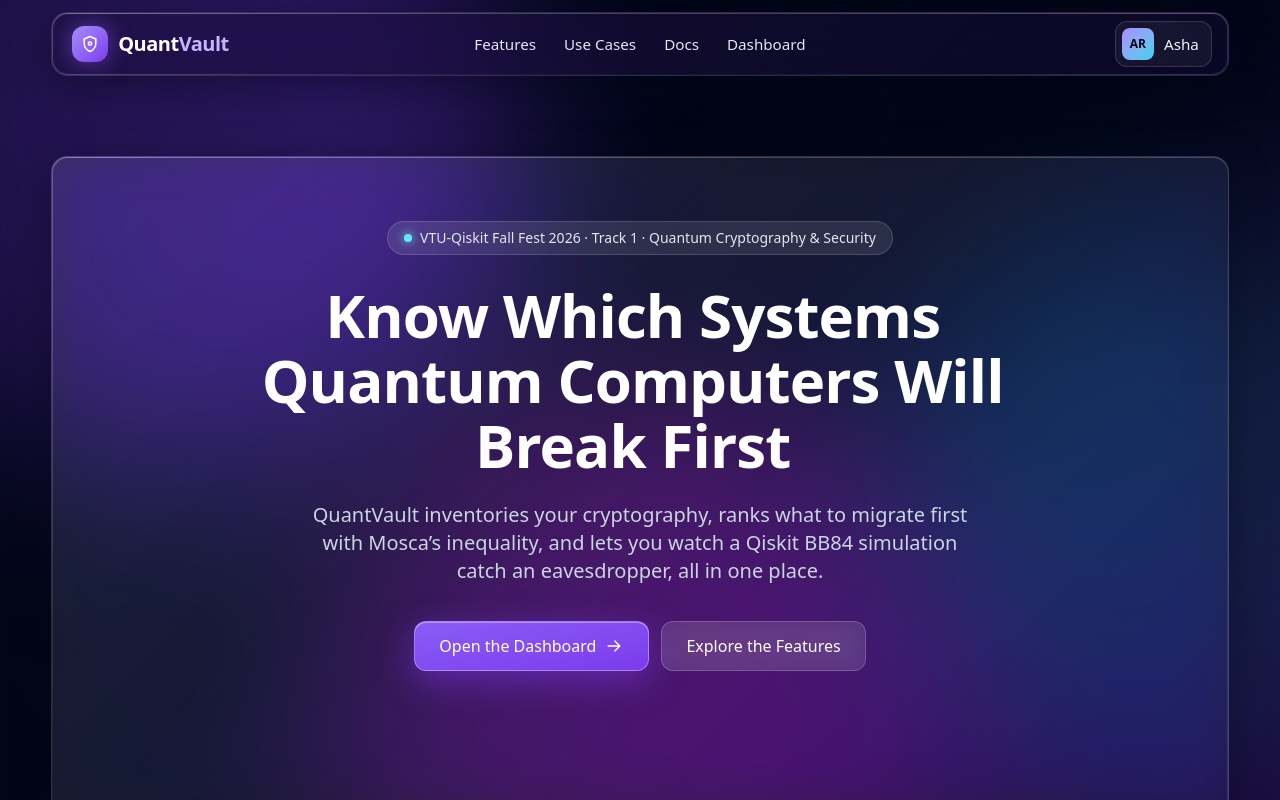
it: header menu › opens with the keyboard, moves with the arrows and Escape returns focus to the button
Click the button "AR Asha" at (1163, 44), box [1115,21,1212,67]
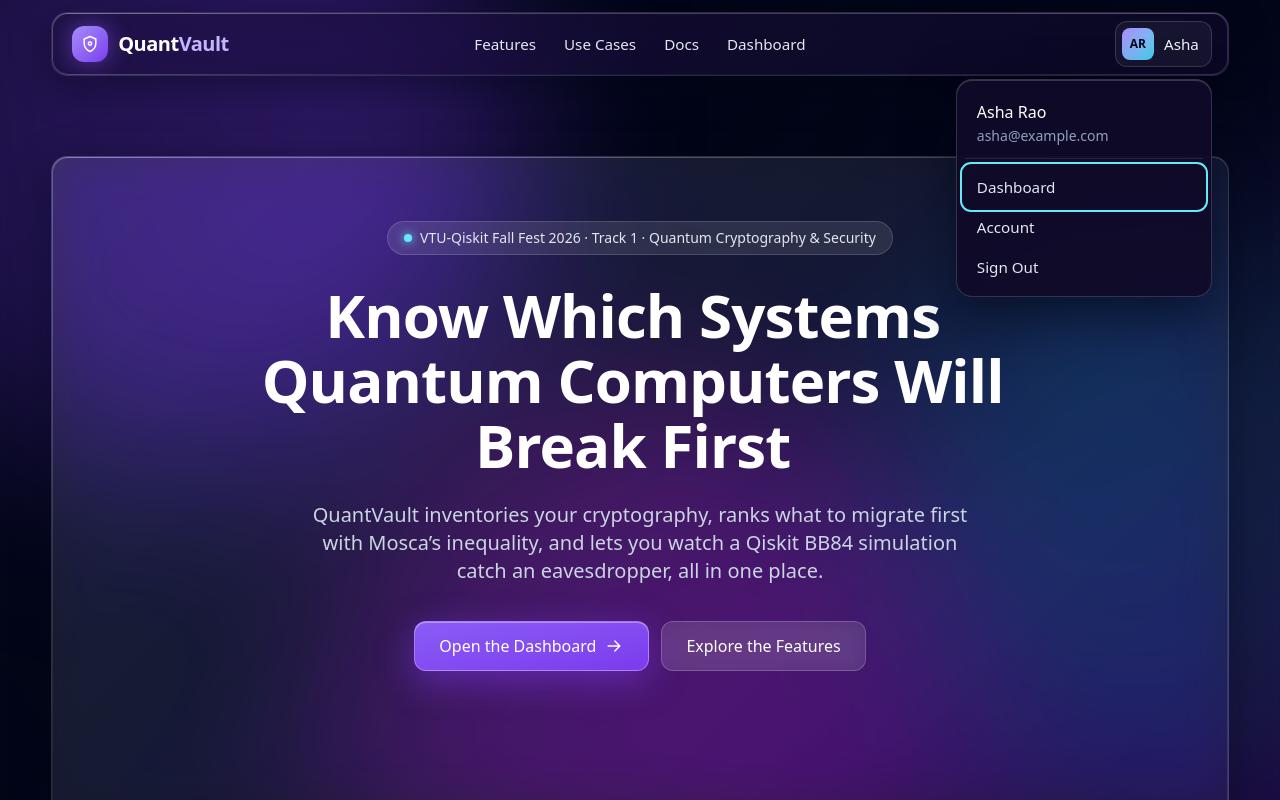
Expected: the menu items read "Dashboard", "Account", "Sign Out", in this order, [977,177,1055,197]; [977,217,1034,237]; [965,247,1203,288]
Press Arrowdown
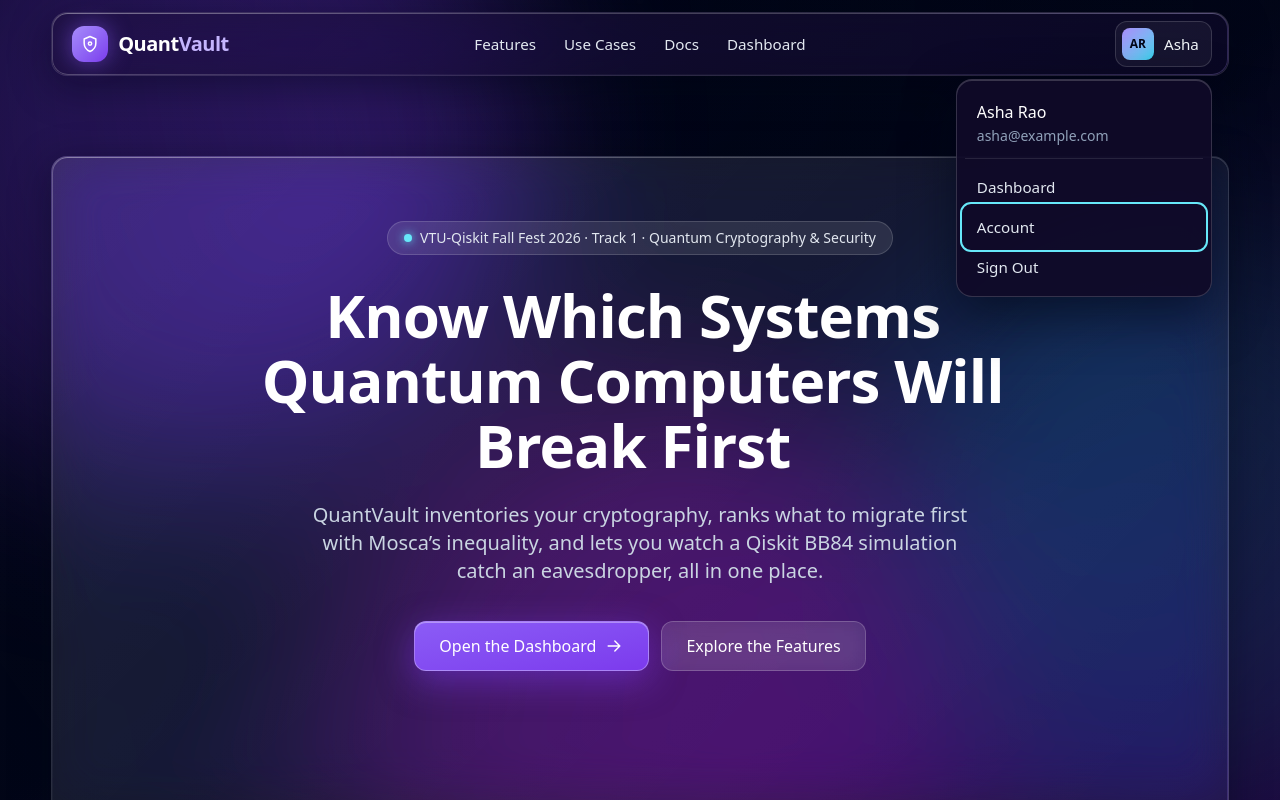
Press End
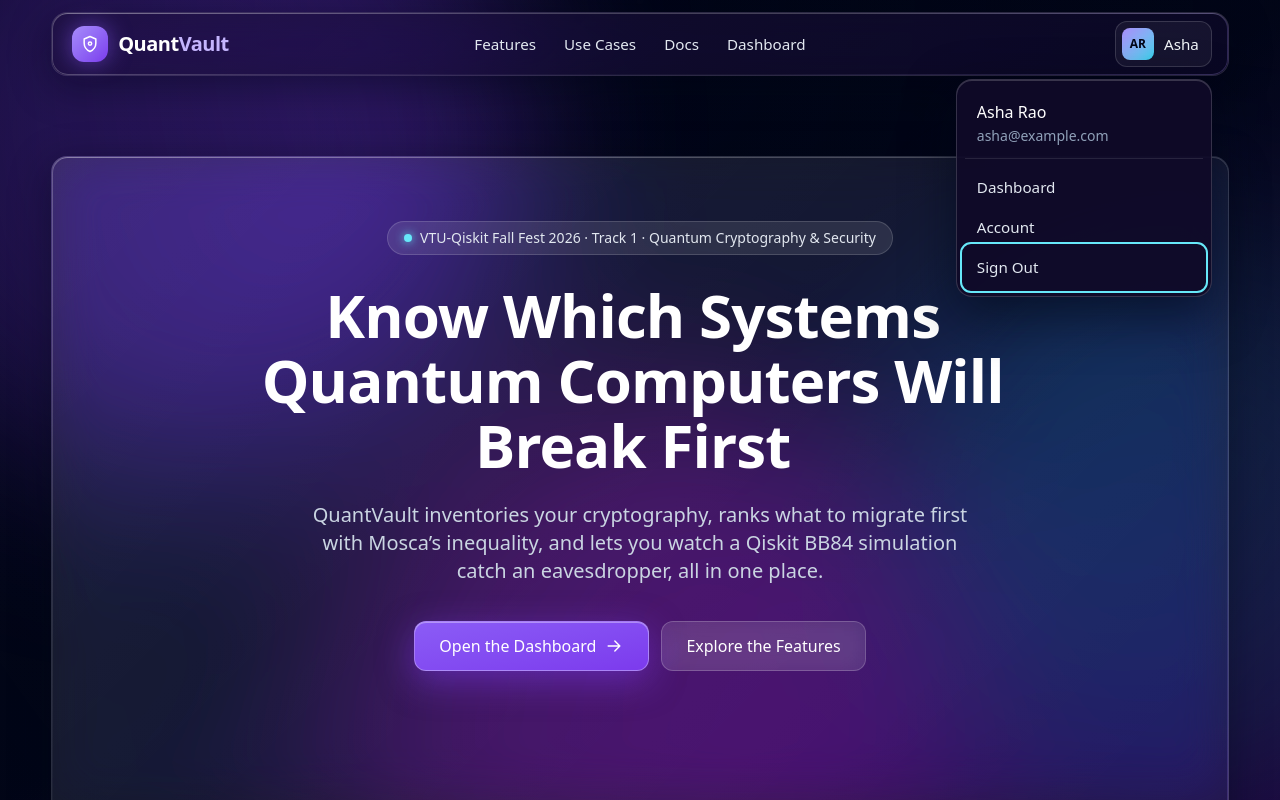
Press Escape
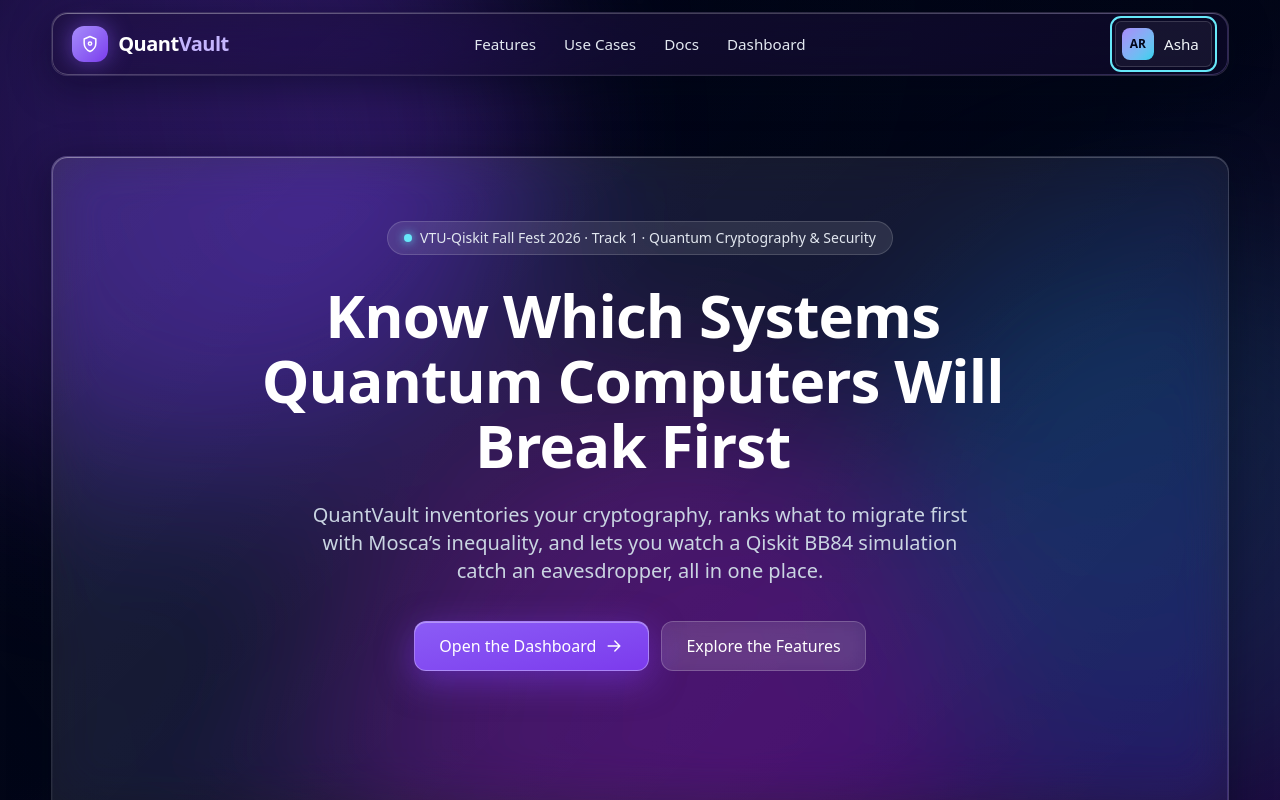
Expected: the menu is gone
